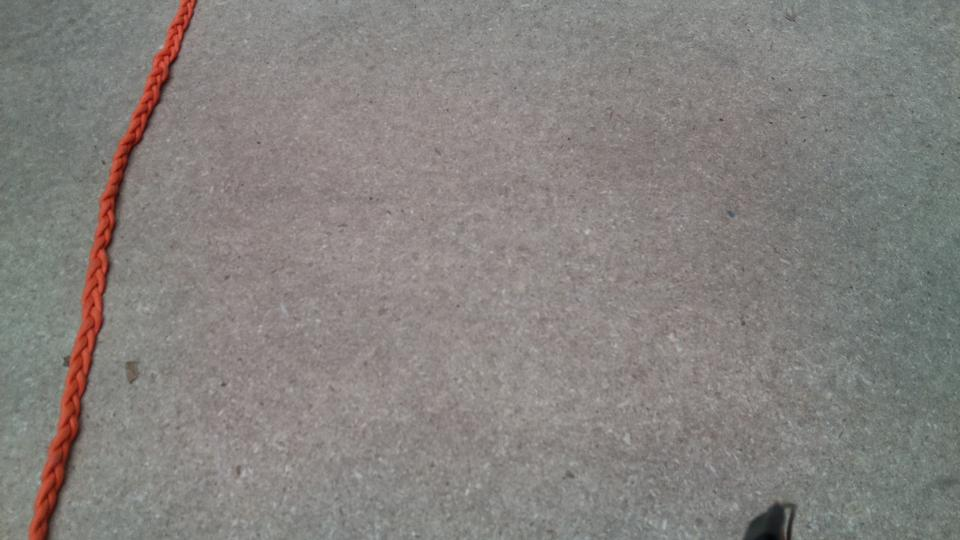rope: (23, 1, 198, 540)
